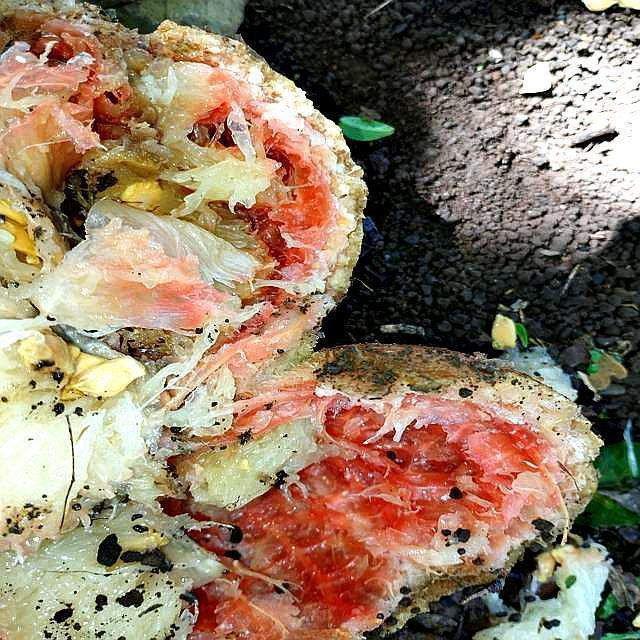Biodegradable: (1, 1, 601, 640)
